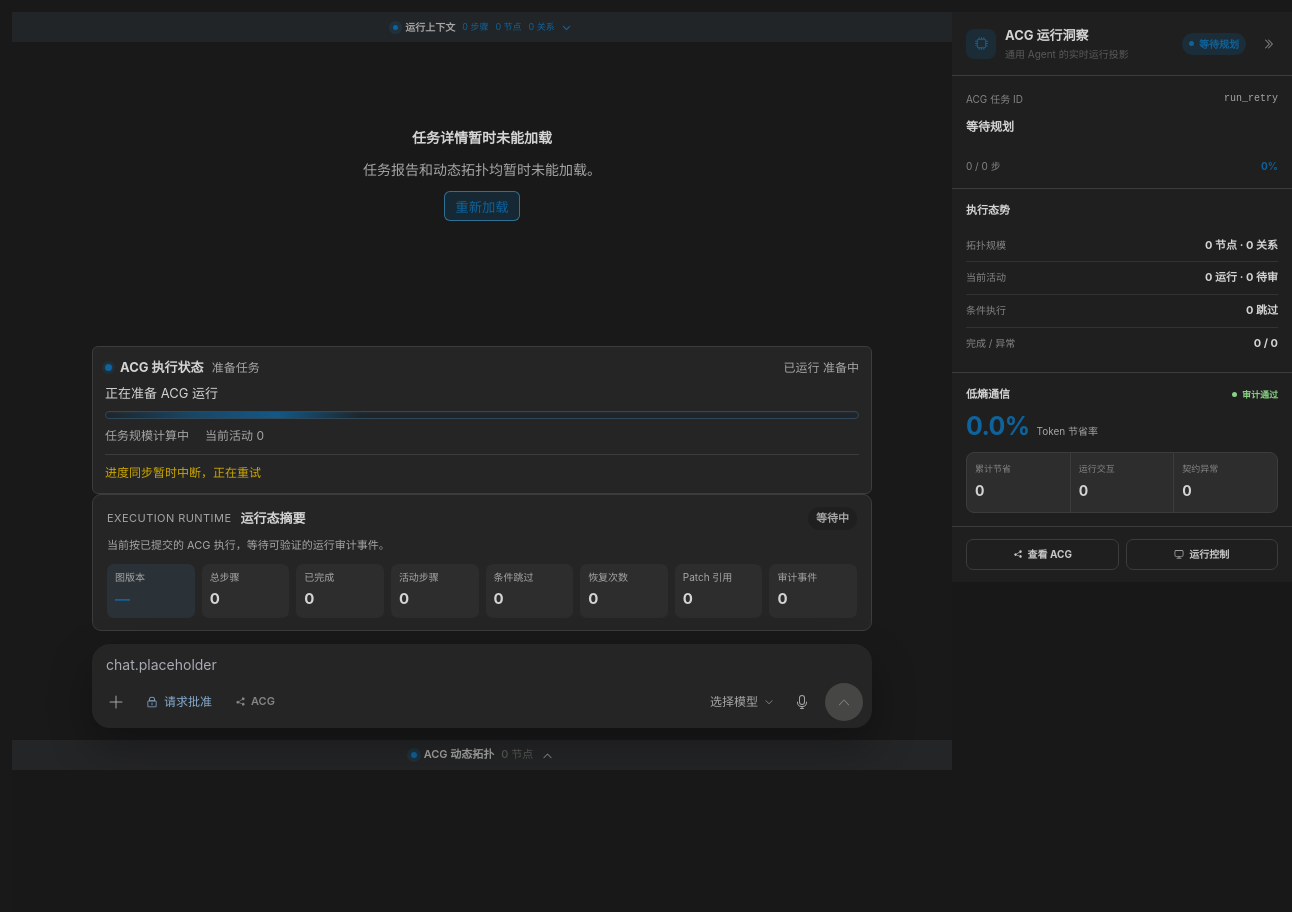
Test: ChatView ACG progress integration › ends the loading state and retries after both history detail requests fail
expect the element with class "workflow-history-loading" shows "任务详情暂时未能加载": met, box [412,129,552,146]
Click the button "重新加载".
click(482, 206)  # box [444,191,520,221]
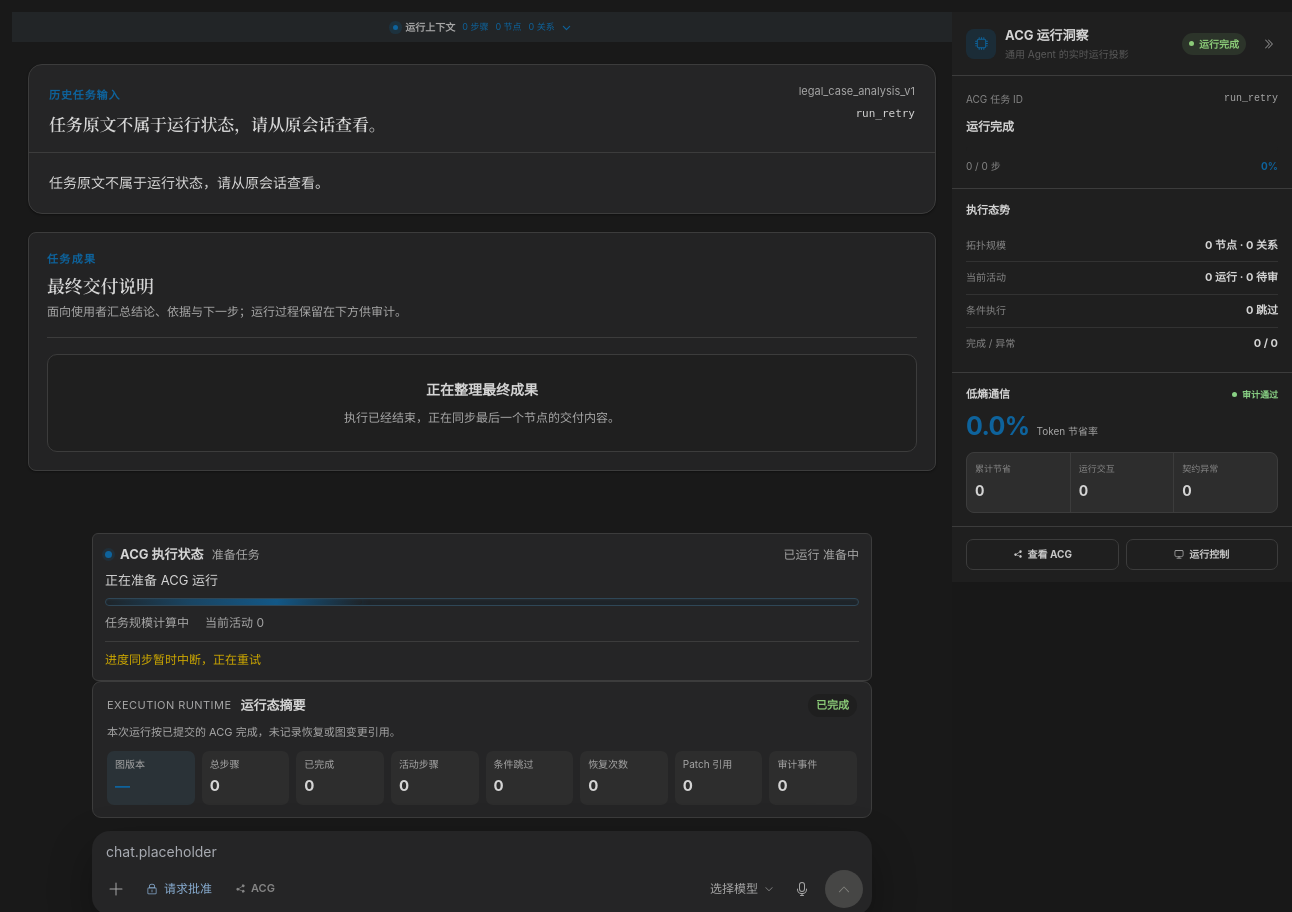
expect the element that starts with "任务成果" is shown: met, box [28,232,936,471]
